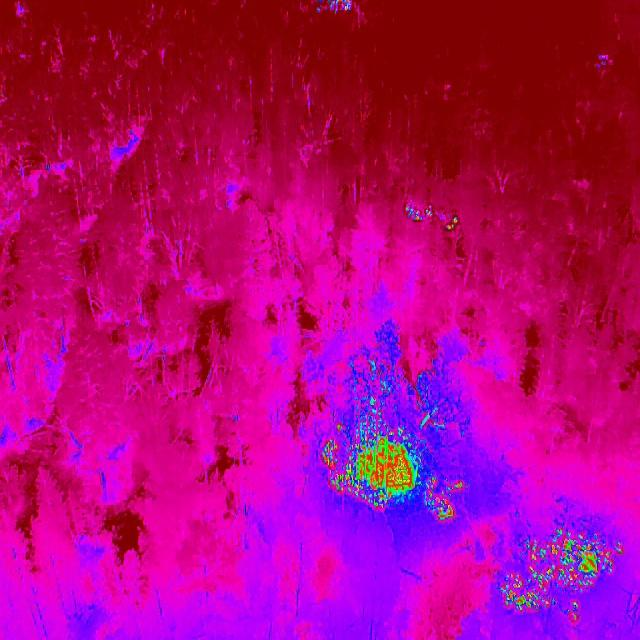fire: (321, 413, 468, 525), (492, 527, 624, 621), (398, 201, 468, 235)
